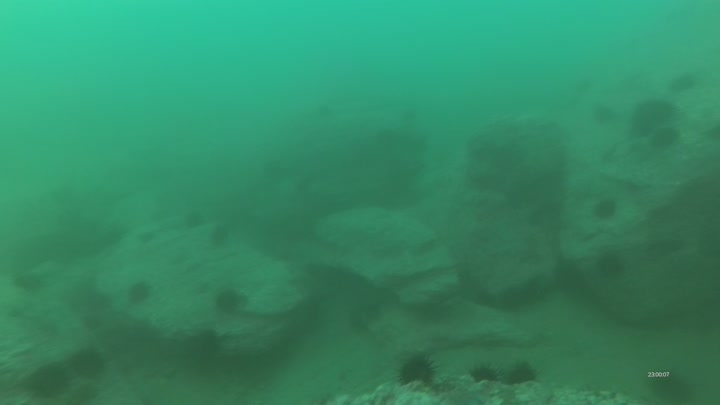echinus: (629, 97, 682, 140), (396, 352, 440, 391), (27, 363, 70, 398), (66, 343, 107, 378), (656, 370, 693, 405), (463, 358, 501, 387), (506, 360, 542, 387), (214, 286, 247, 313), (597, 249, 621, 278), (127, 279, 151, 305), (652, 128, 679, 151), (591, 101, 613, 127), (594, 199, 618, 222), (674, 75, 699, 96), (213, 224, 235, 247), (182, 213, 204, 229), (137, 228, 154, 244)
